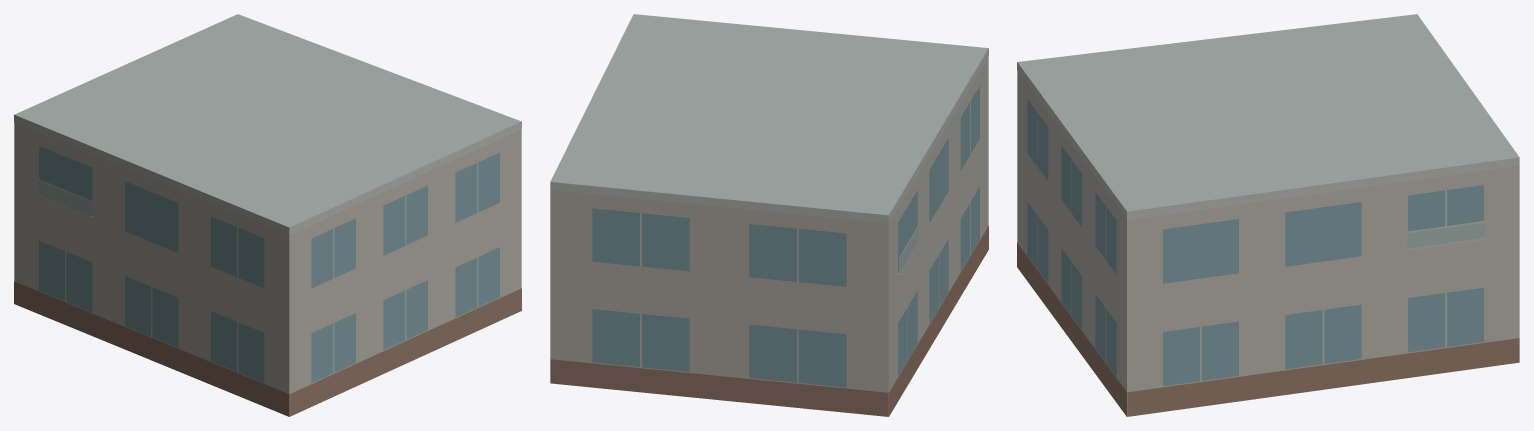
File: survey-upis-32669314.glb
3 renders of one model, left to right at view 1: azimuth 30°, elevation 25°; view 2: azimuth 150°, elevation 25°; view 3: azimuth 270°, elevation 25°, orthographic. The views are drawn at different scales.
Parts seen in each view (by area): view 1: survey-upis-32669314.tmp; view 2: survey-upis-32669314.tmp; view 3: survey-upis-32669314.tmp.
Boxes of the visible parts, box(x1,y1,x2,y2) form: survey-upis-32669314.tmp: box(14, 14, 521, 416); survey-upis-32669314.tmp: box(550, 14, 988, 416); survey-upis-32669314.tmp: box(1017, 14, 1519, 416).
Bounding box in the file's own units: 12.61 × 6.1 × 13.55.
